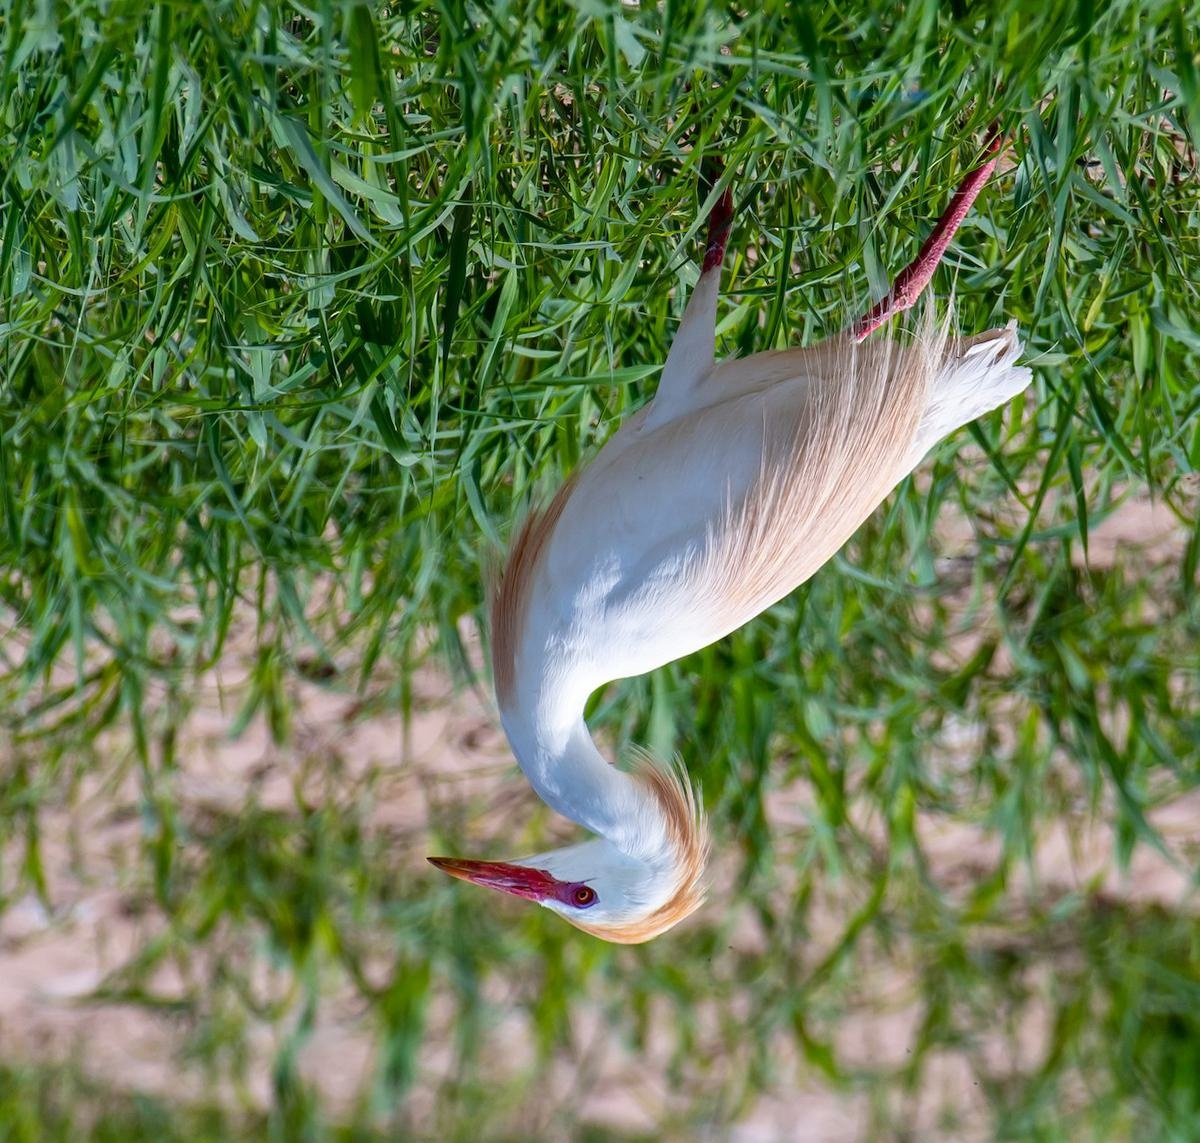egret: (424, 146, 1082, 938)
